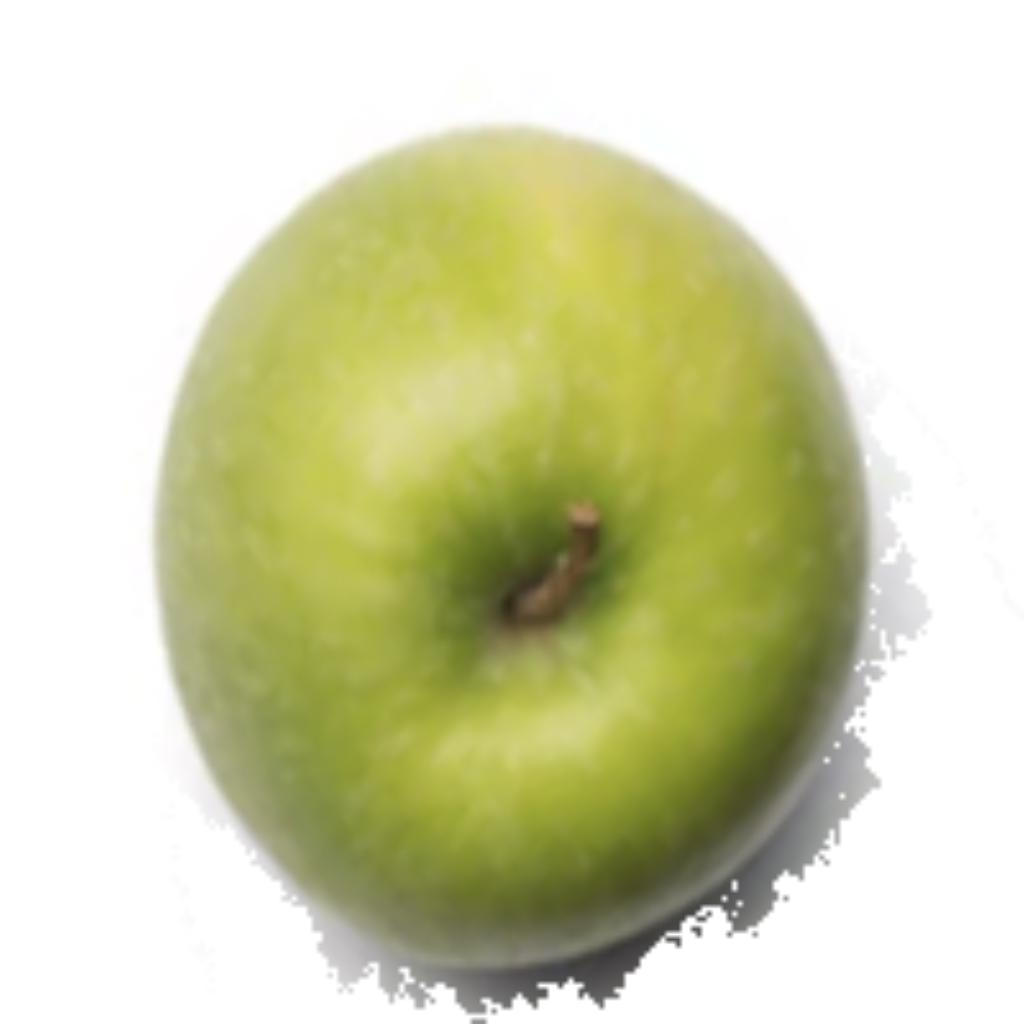apple: (143, 113, 932, 1019)
